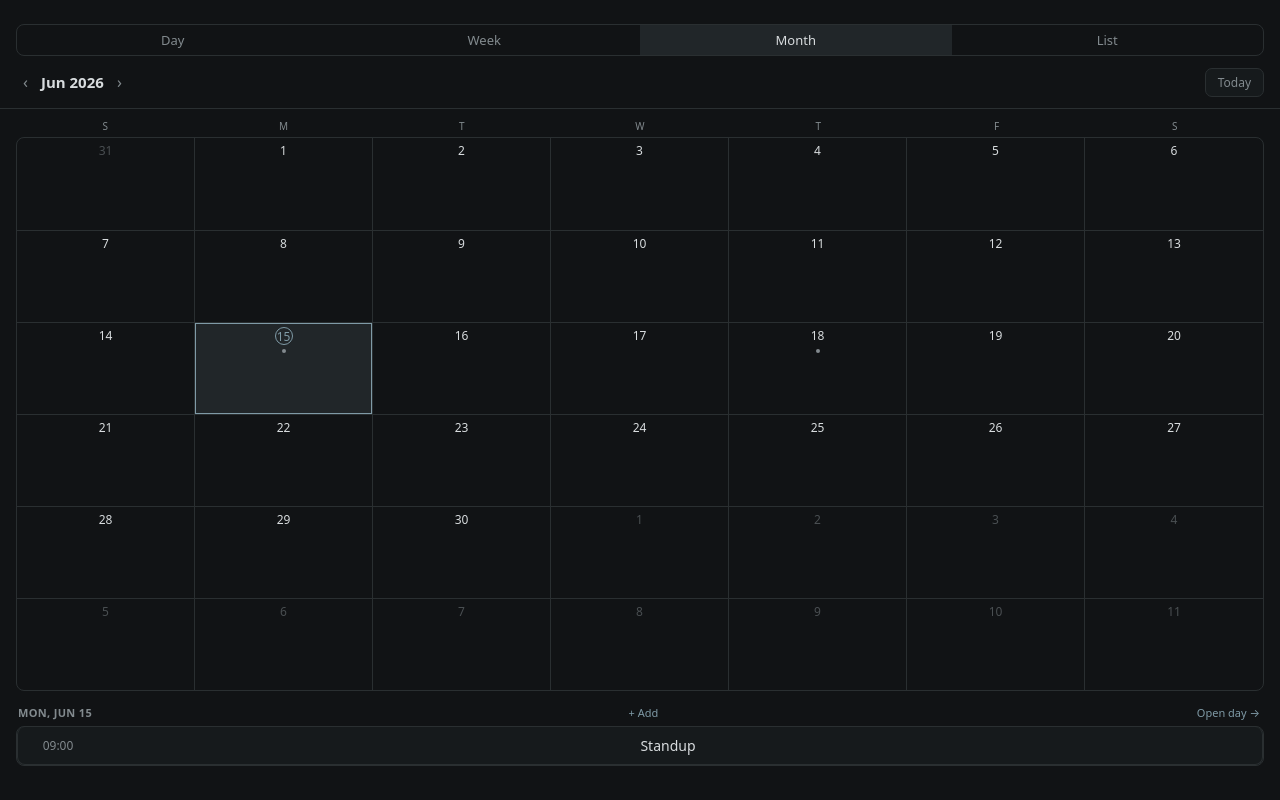
CalendarPage — month view › selecting a different day swaps the day panel to that day's events
This screenshot has width=1280, height=800.
Expected: the text "Standup" is shown, 640,736 -> 696,755
What coordinates should you click on to do the following:
click the button named "Thu, Jun 18, 1 event"
I would click on:
 (818, 368)
Its box is 729,322 -> 907,414.
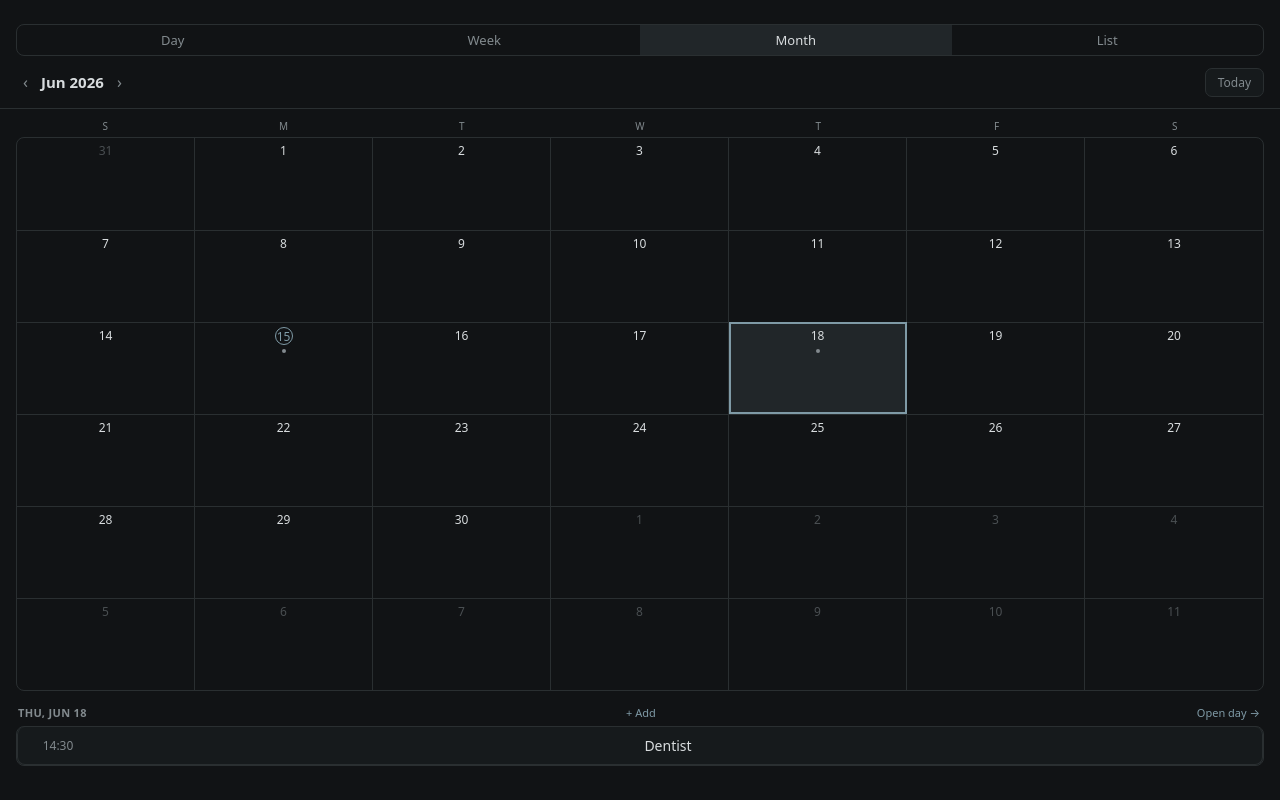
Now the text "Dentist" is shown, box 644,736 -> 692,755
Now the button "Standup" is gone
